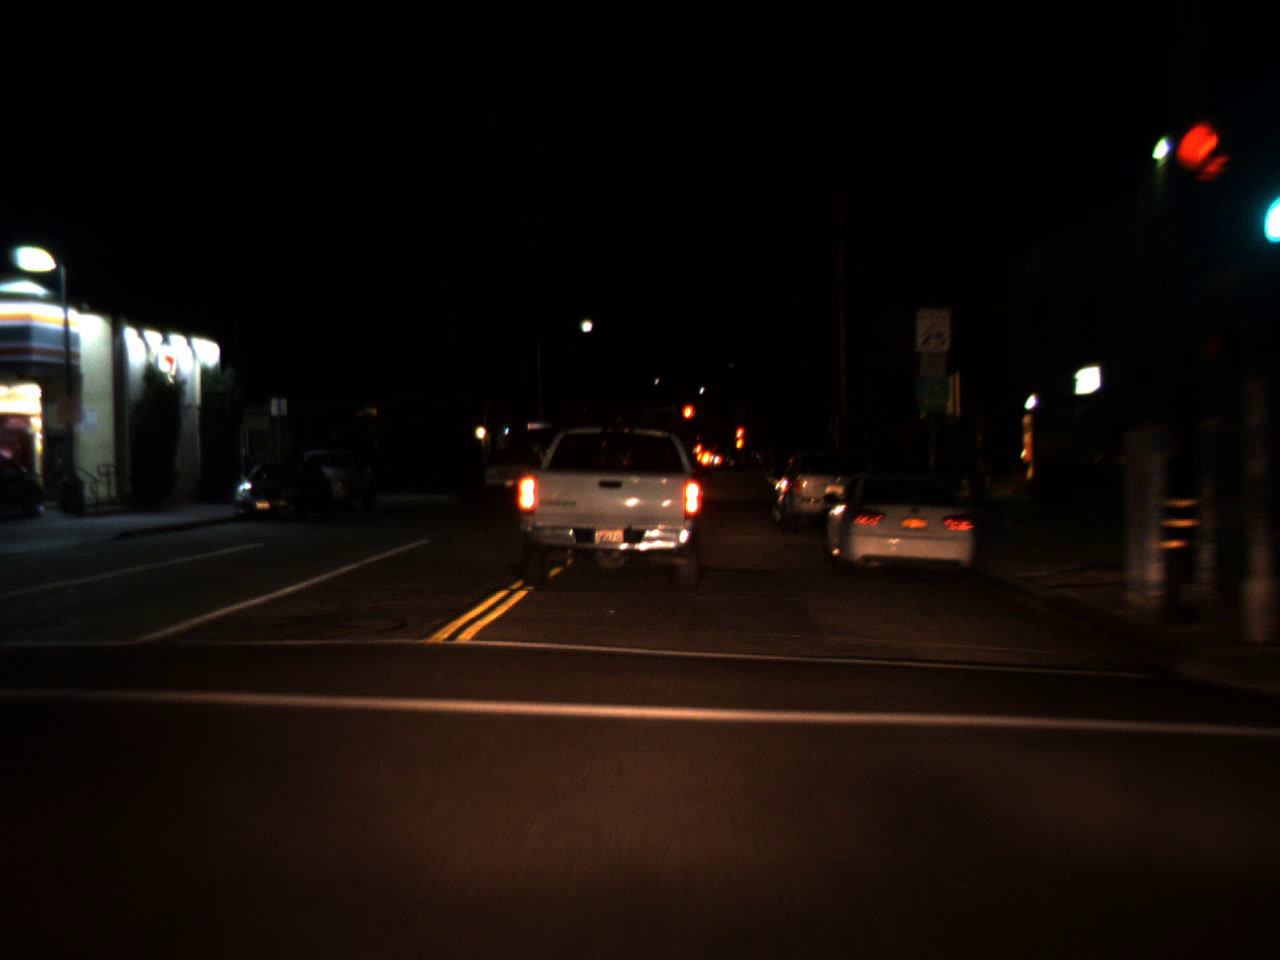stop: (681, 403, 694, 435), (735, 425, 744, 449)
